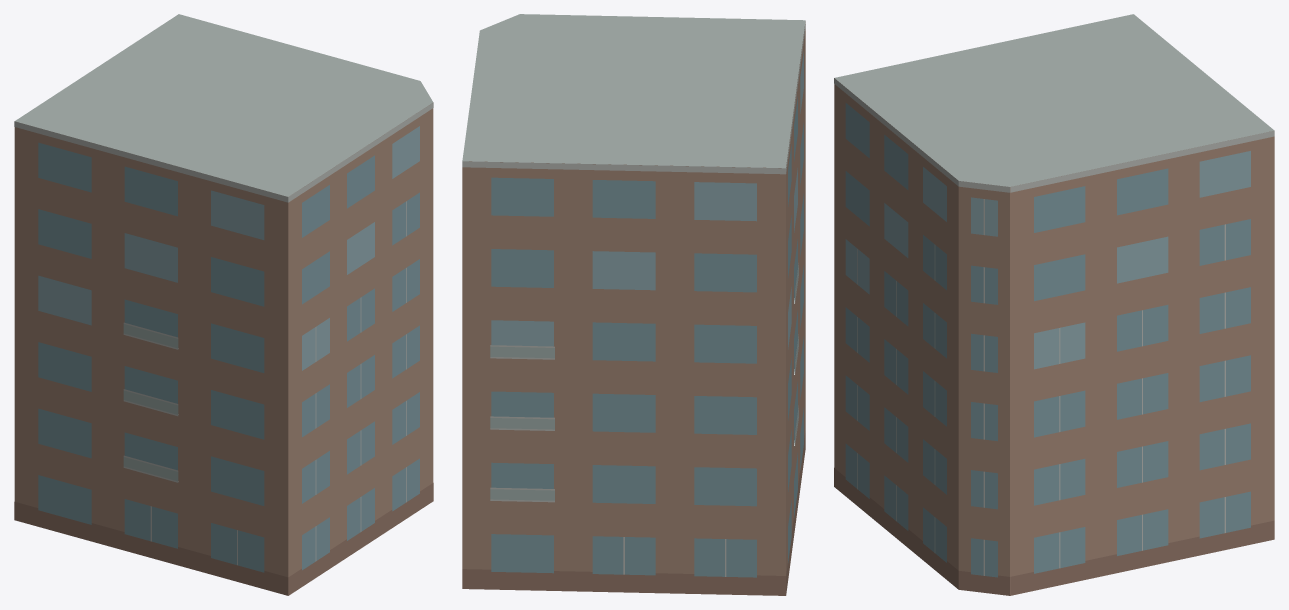
The model's file is survey-upis-32729271.glb.
3 renders of one model, left to right at view 1: azimuth 30°, elevation 25°; view 2: azimuth 150°, elevation 25°; view 3: azimuth 270°, elevation 25°, orthographic. The views are drawn at different scales.
Parts seen in each view (by area): view 1: survey-upis-32729271.tmp; view 2: survey-upis-32729271.tmp; view 3: survey-upis-32729271.tmp.
Part boxes in pixels (x1,y1,x2,y2): survey-upis-32729271.tmp: (14,14,433,595); survey-upis-32729271.tmp: (462,14,805,595); survey-upis-32729271.tmp: (834,14,1274,595).
Bounding box in the file's own units: 15.62 × 17.2 × 16.8.
